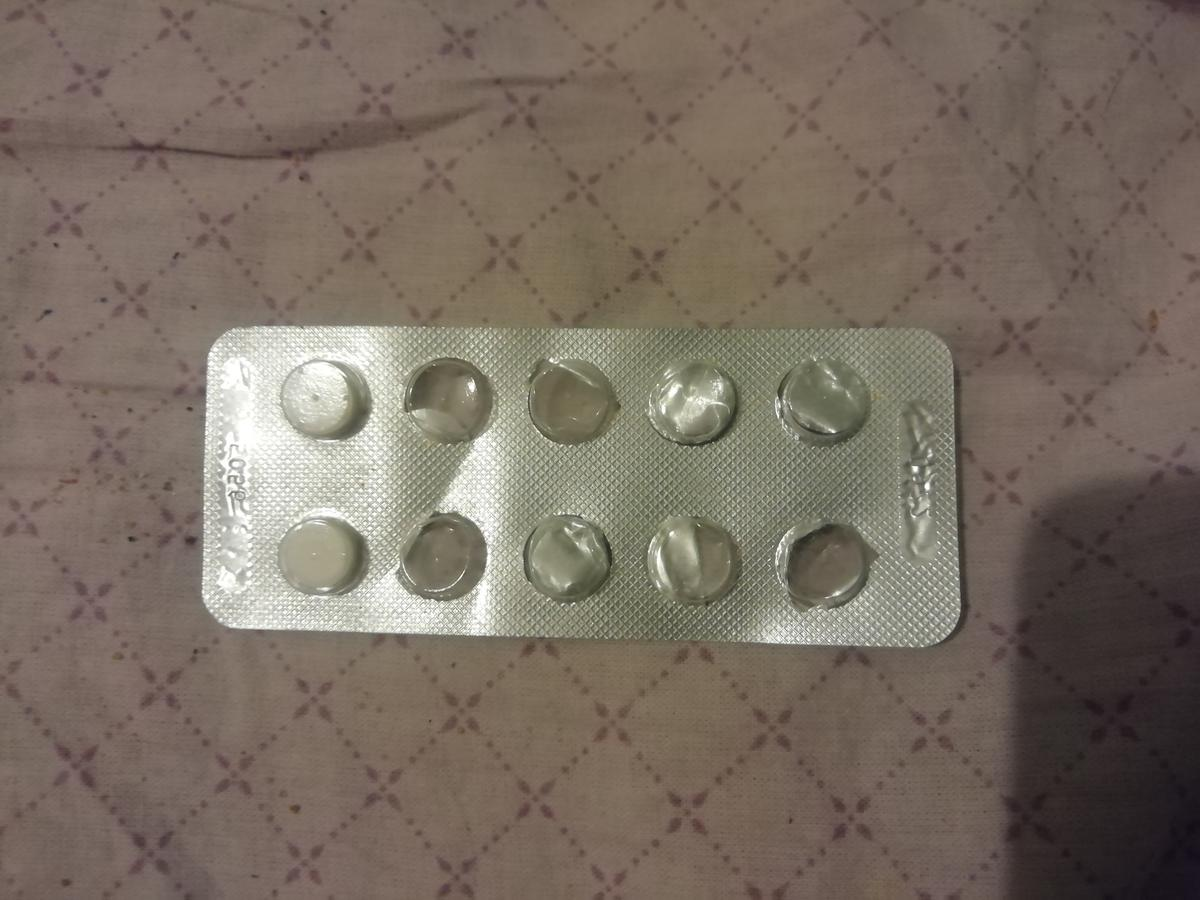tablet: (266, 361, 372, 447), (267, 508, 373, 594)
